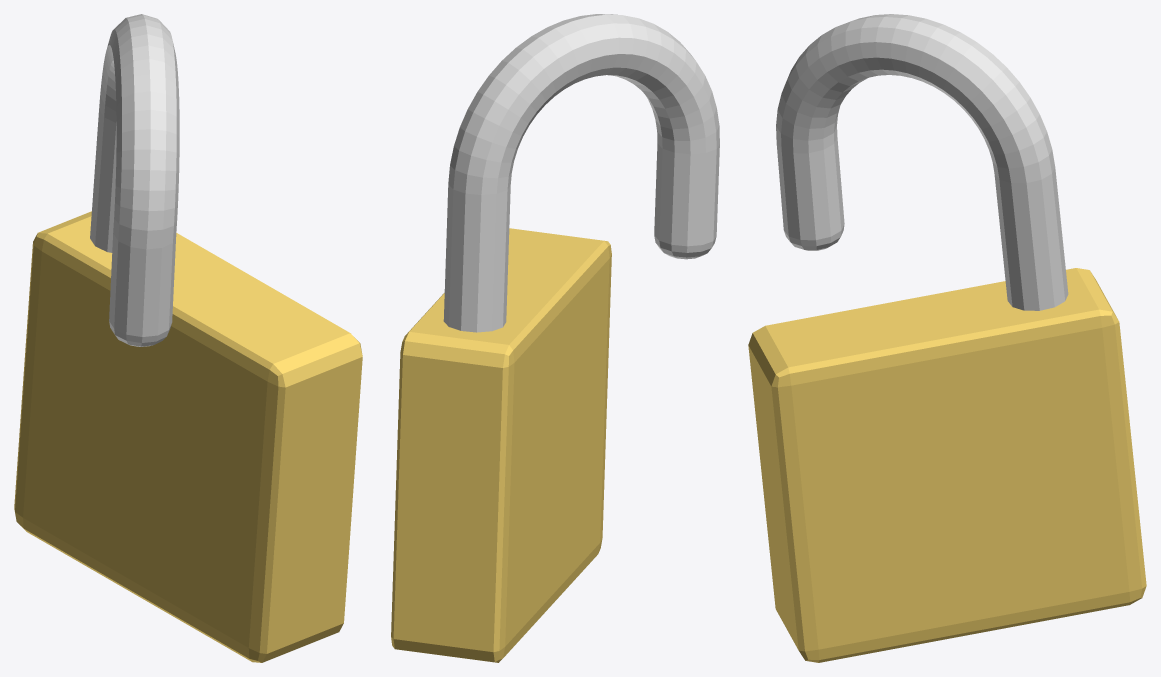
The model's file is lock-happy.glb.
3 views of the same model, side by side, from view 1: azimuth 30°, elevation 25°; view 2: azimuth 150°, elevation 25°; view 3: azimuth 270°, elevation 25° (orthographic). The views are drawn at different scales.
Parts seen in each view (by area): view 1: Lock.001; view 2: Lock.001; view 3: Lock.001.
Boxes of the visible parts, x1=… form: Lock.001: x1=14, y1=14, x2=362, y2=662; Lock.001: x1=391, y1=14, x2=719, y2=662; Lock.001: x1=748, y1=14, x2=1146, y2=662.
Size of the model in its own units: 3.77 by 9.41 by 5.86.
